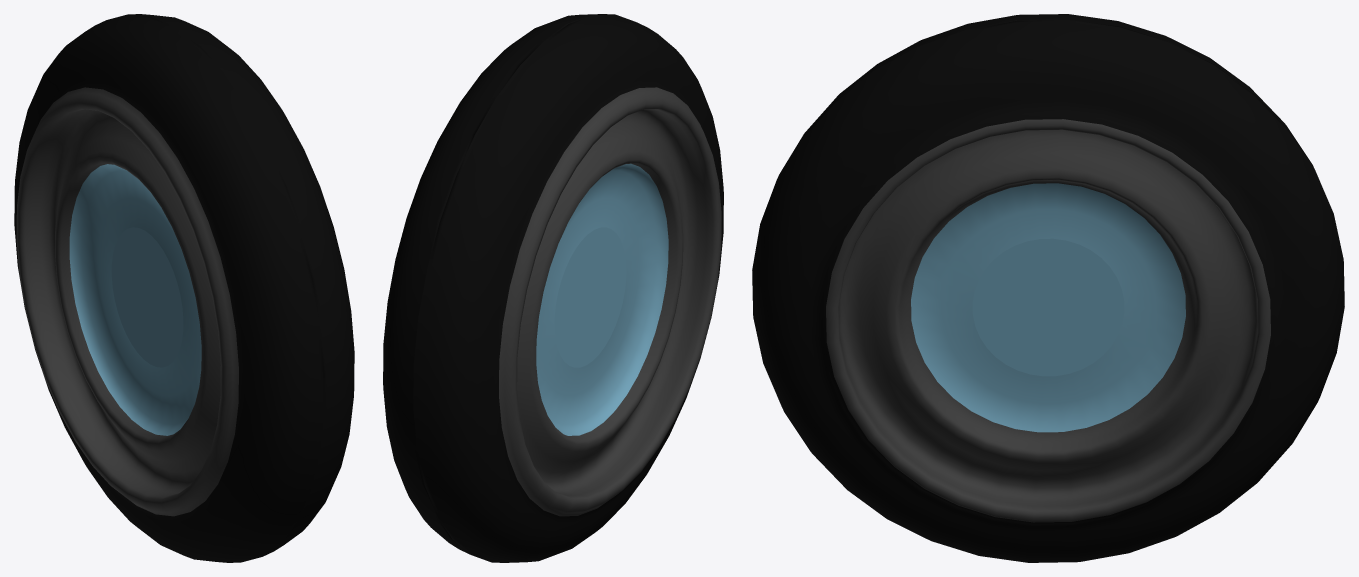
The model's file is BackWheel_I.FBX.
The picture shows the model from 3 angles, left to right: view 1: azimuth 30°, elevation 25°; view 2: azimuth 150°, elevation 25°; view 3: azimuth 270°, elevation 25°; orthographic projection. The views are drawn at different scales.
Visible parts, largest first — view 1: Bike_B_Wheel; view 2: Bike_B_Wheel; view 3: Bike_B_Wheel.
Part boxes in pixels (x1,y1,x2,y2): Bike_B_Wheel: [14, 14, 354, 562]; Bike_B_Wheel: [383, 14, 723, 562]; Bike_B_Wheel: [752, 14, 1344, 562].
Bounding box in the file's own units: 2.46 × 9.3 × 9.3.
